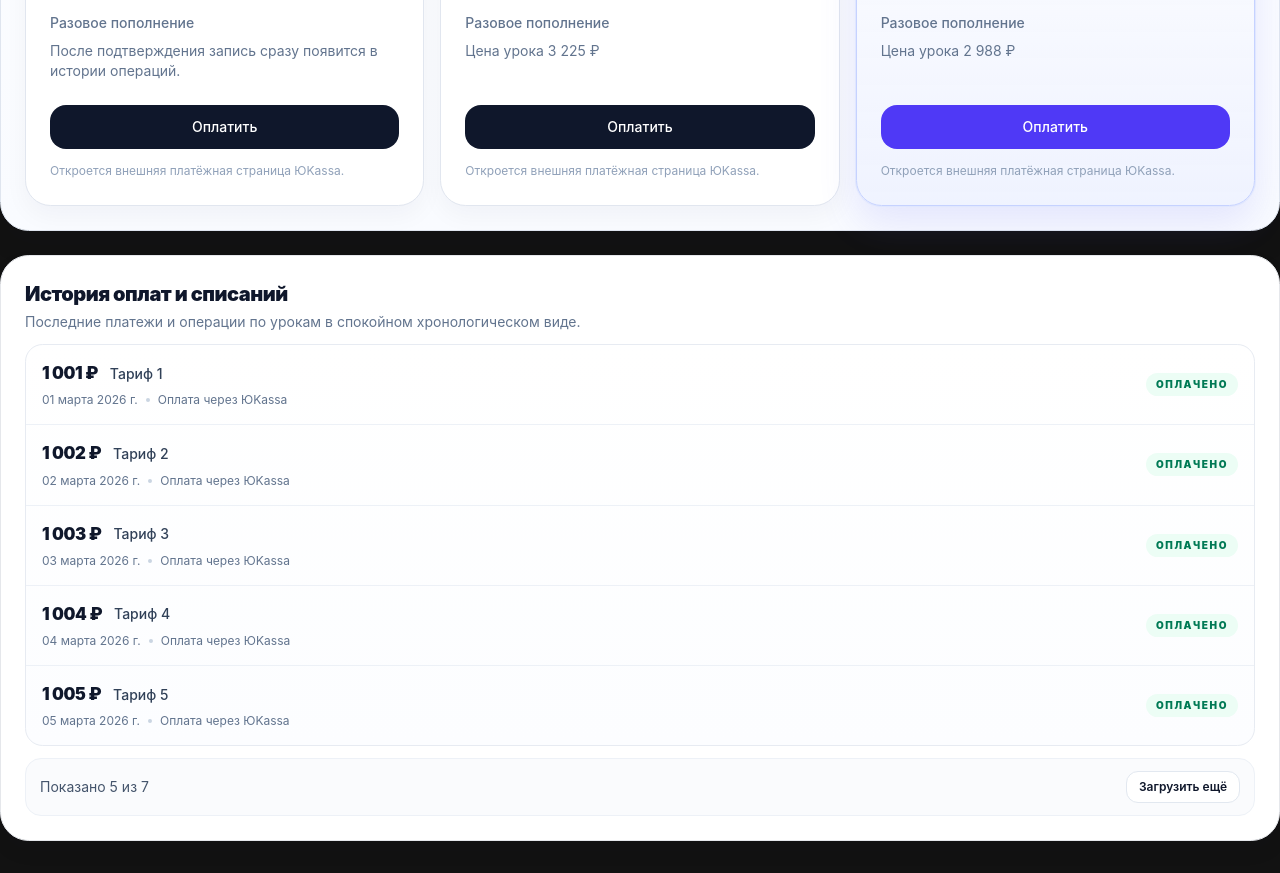
Test: PaymentsClient › shows only first five payments by default and expands/collapses history
(page scrolled)
expect the text "Показано 5 из 7" is shown: met, box x1=40 y1=777 x2=149 y2=797
expect the text "Тариф 1" is shown: met, box x1=110 y1=364 x2=162 y2=384
Click the button "Загрузить ещё": coordinates (1183, 787) x1=1126 y1=771 x2=1240 y2=803
(page scrolled)
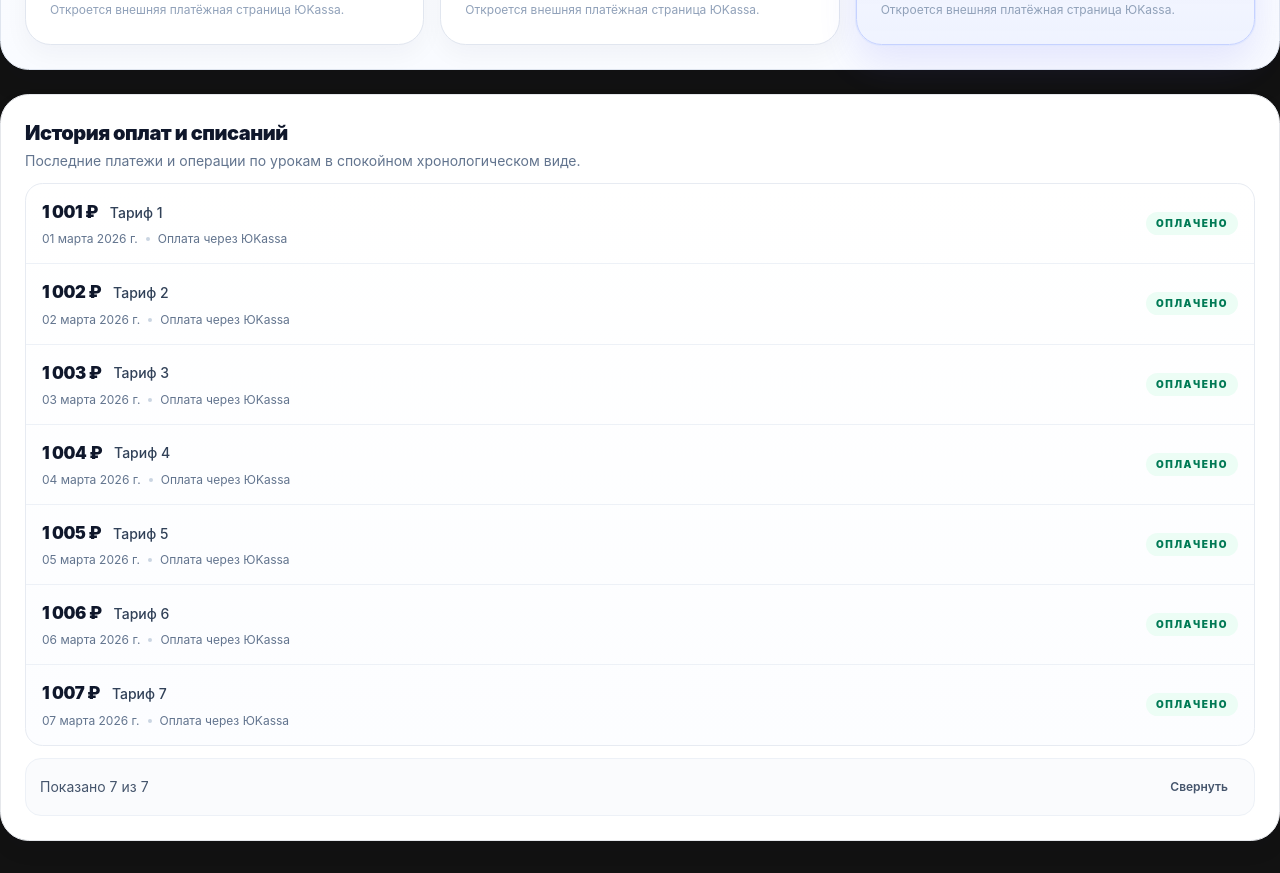
expect the text "Показано 7 из 7" is shown: met, box x1=40 y1=776 x2=149 y2=796
expect the text "Тариф 6" is shown: met, box x1=114 y1=604 x2=169 y2=624
expect the text "Тариф 7" is shown: met, box x1=112 y1=684 x2=167 y2=704
Click the button "Свернуть": coordinates (1199, 786) x1=1158 y1=770 x2=1240 y2=802
(page scrolled)
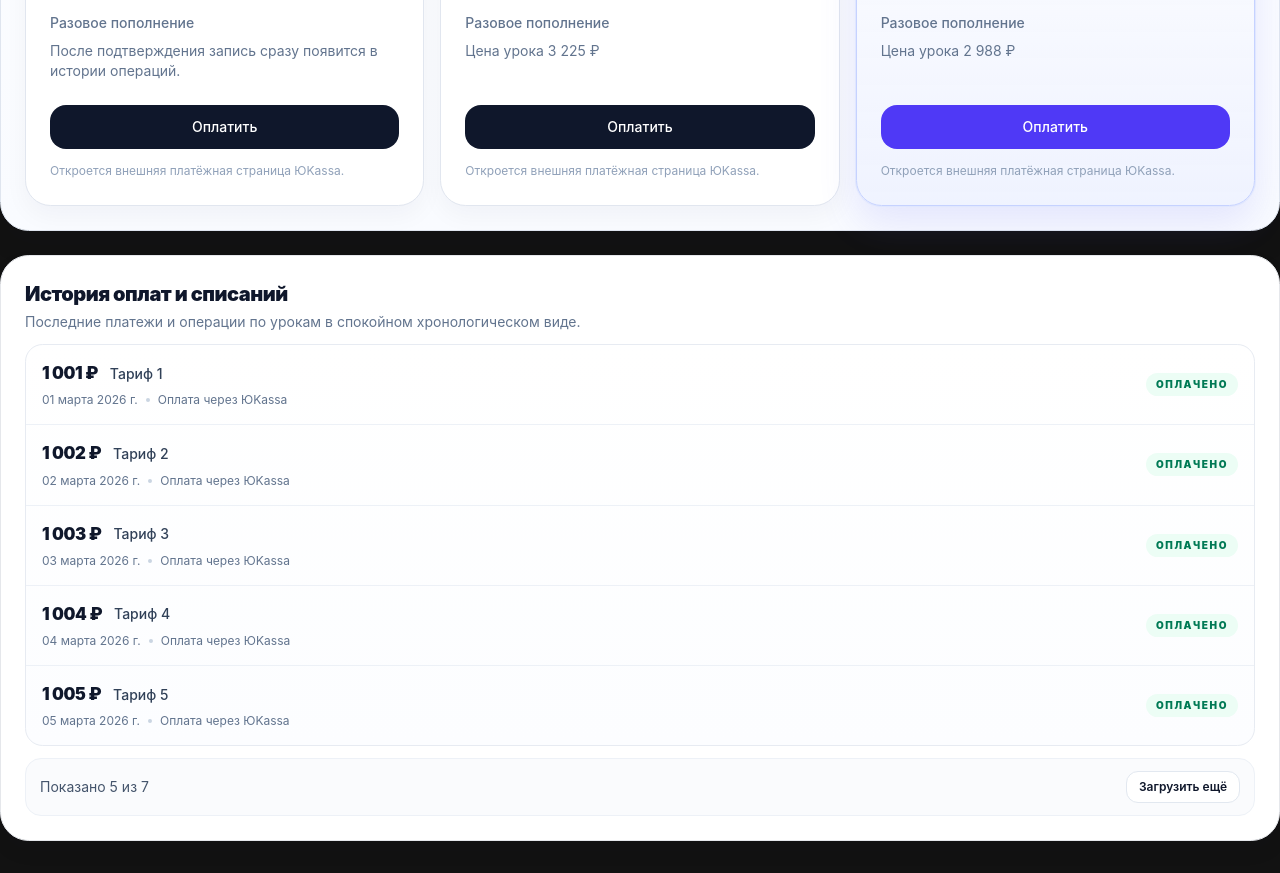
expect the text "Показано 5 из 7" is shown: met, box x1=40 y1=777 x2=149 y2=797
expect the text "Тариф 6" is gone: met
